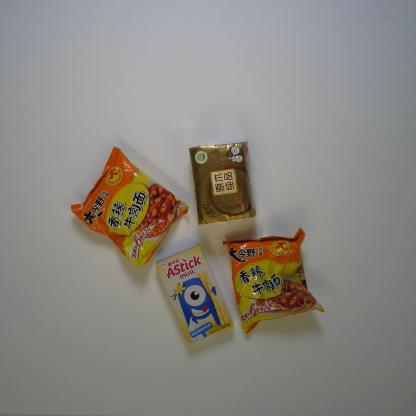Dessert: (154, 243, 234, 346)
Instant Noodles: (68, 144, 190, 268), (220, 227, 324, 338)
Tissue: (188, 139, 259, 228)
